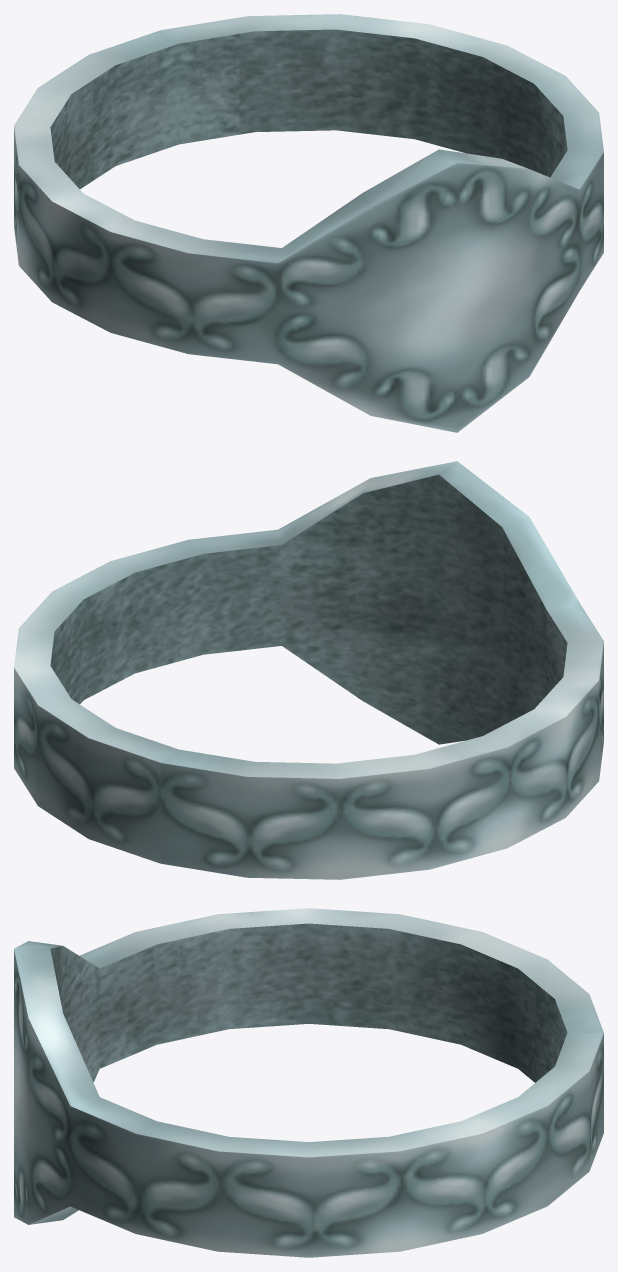
File: ring_silver_16.fbx
3 renders of one model, top to bottom at view 1: azimuth 30°, elevation 25°; view 2: azimuth 150°, elevation 25°; view 3: azimuth 270°, elevation 25°, orthographic.
Visible parts, largest first — view 1: ring_silver_16; view 2: ring_silver_16; view 3: ring_silver_16.
Part boxes in pixels (box(x1,y1,x2,y2)): ring_silver_16: box(14, 14, 603, 432); ring_silver_16: box(14, 461, 603, 879); ring_silver_16: box(14, 908, 603, 1257).
Size of the model in its own units: 2.04 by 1.03 by 2.04.
